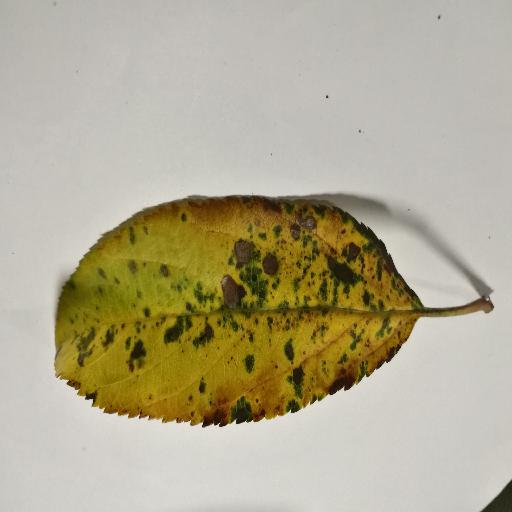Brown_Spot: (91, 233, 385, 398)
